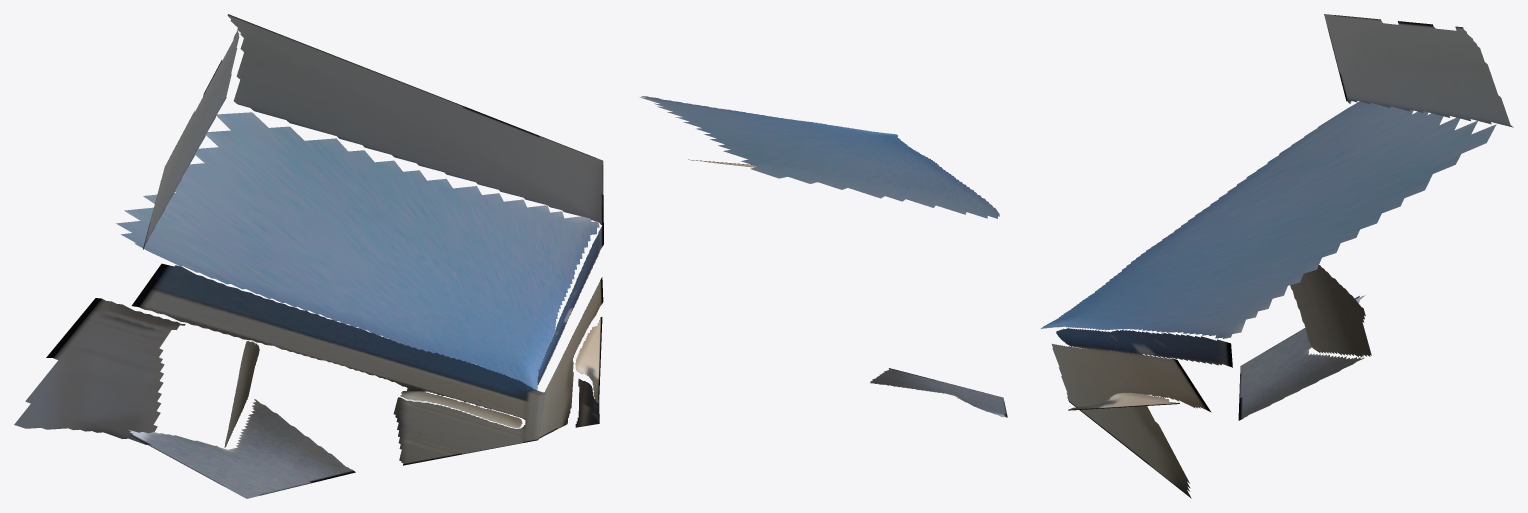
The model's file is 576_d2_depth_predplane_pred_model.glb.
3 views of the same model, side by side, from view 1: azimuth 30°, elevation 25°; view 2: azimuth 150°, elevation 25°; view 3: azimuth 270°, elevation 25° (orthographic). The views are drawn at different scales.
Bounding box in the file's own units: 3.13 × 2.4 × 2.6.
